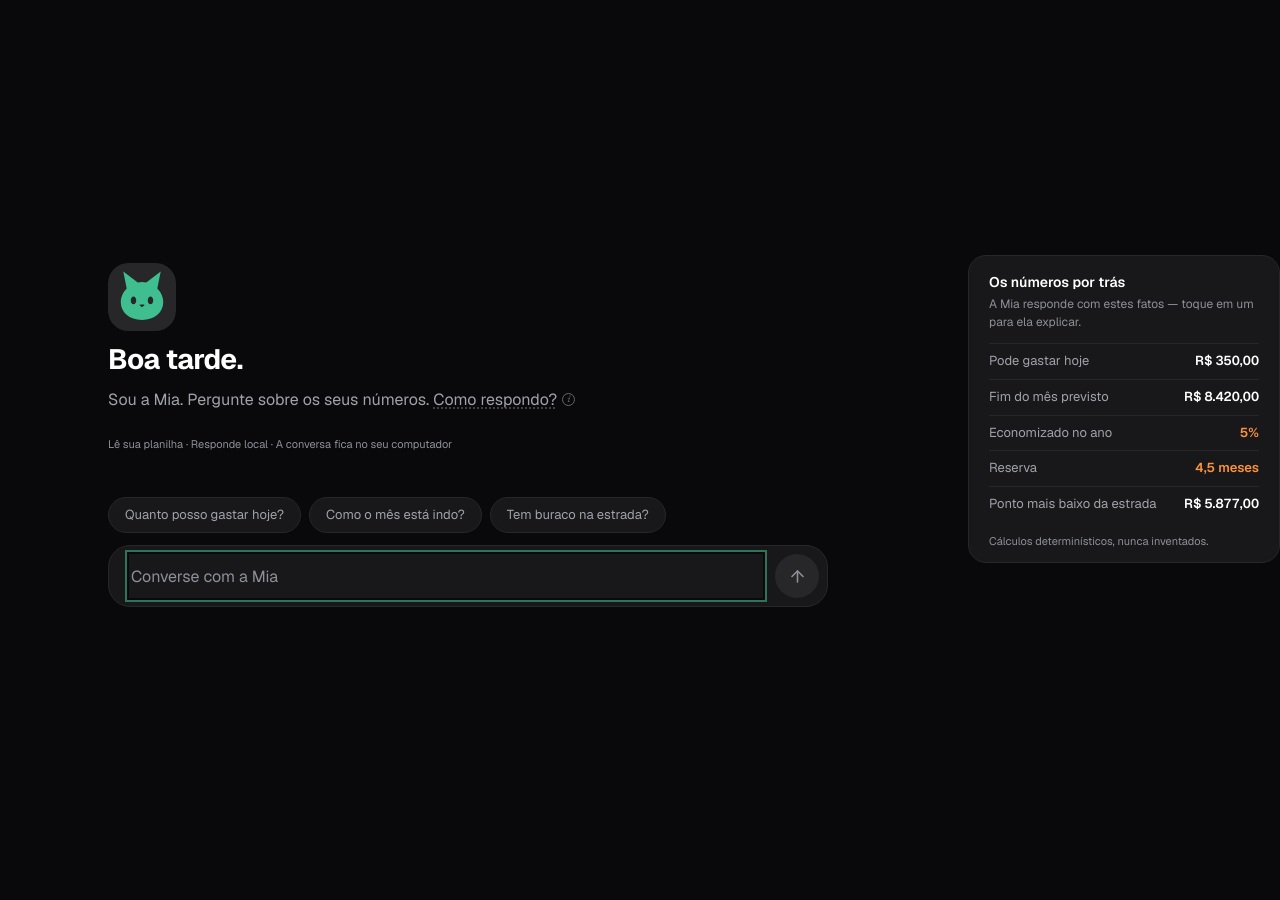
Test: CopilotScreen (Mia) › responde a pergunta com o recibo da conta que o motor fez
Step 1. Click the button "Quanto posso gastar hoje?" → coordinates (205, 515), box [108,497,301,533]
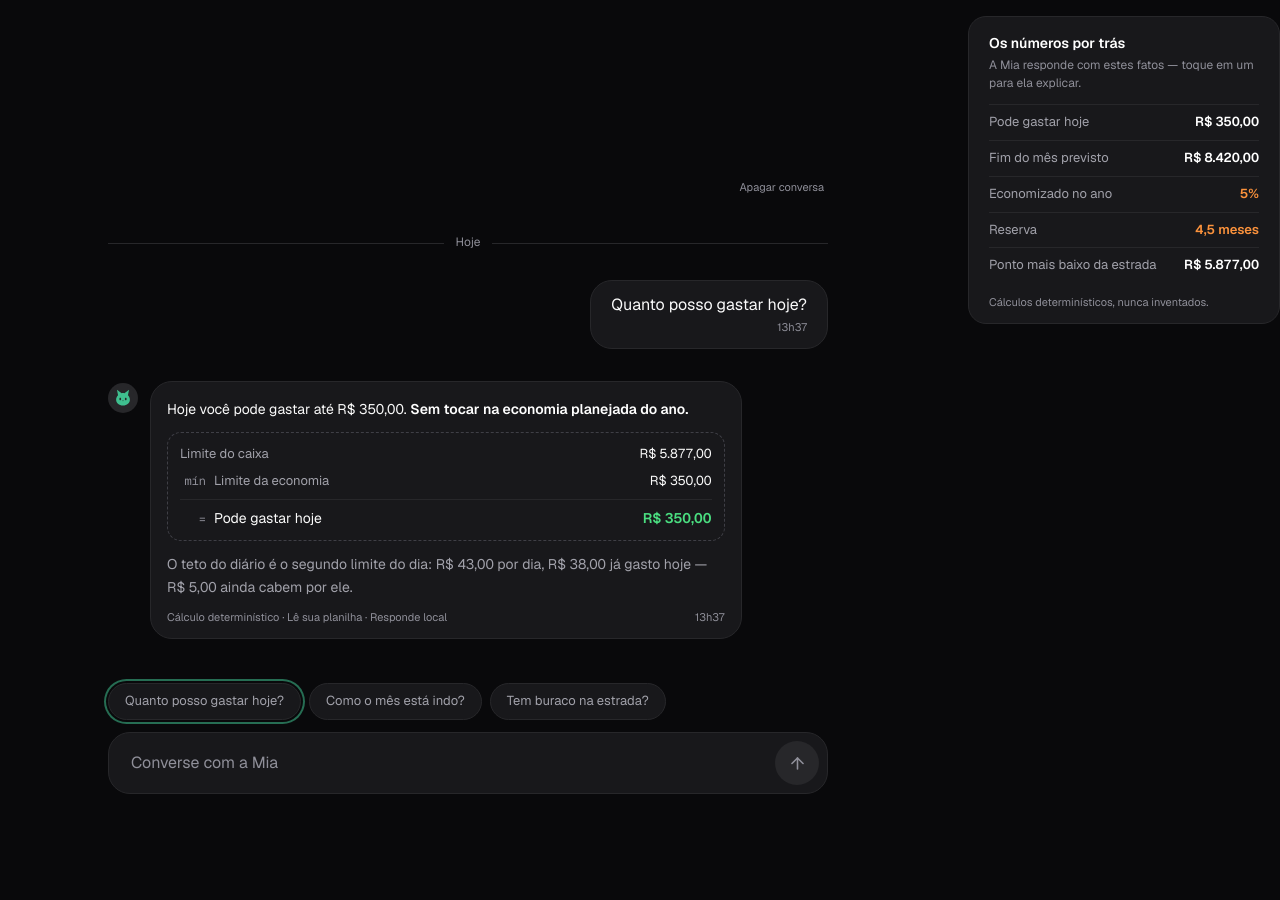
expect the text "Quanto posso gastar hoje?" is shown: met, box [611,294,807,315]
expect the text "Limite do caixa" is shown: met, box [180,445,269,464]
expect the text "Pode gastar hoje" is shown: met, box [214,509,322,527]
